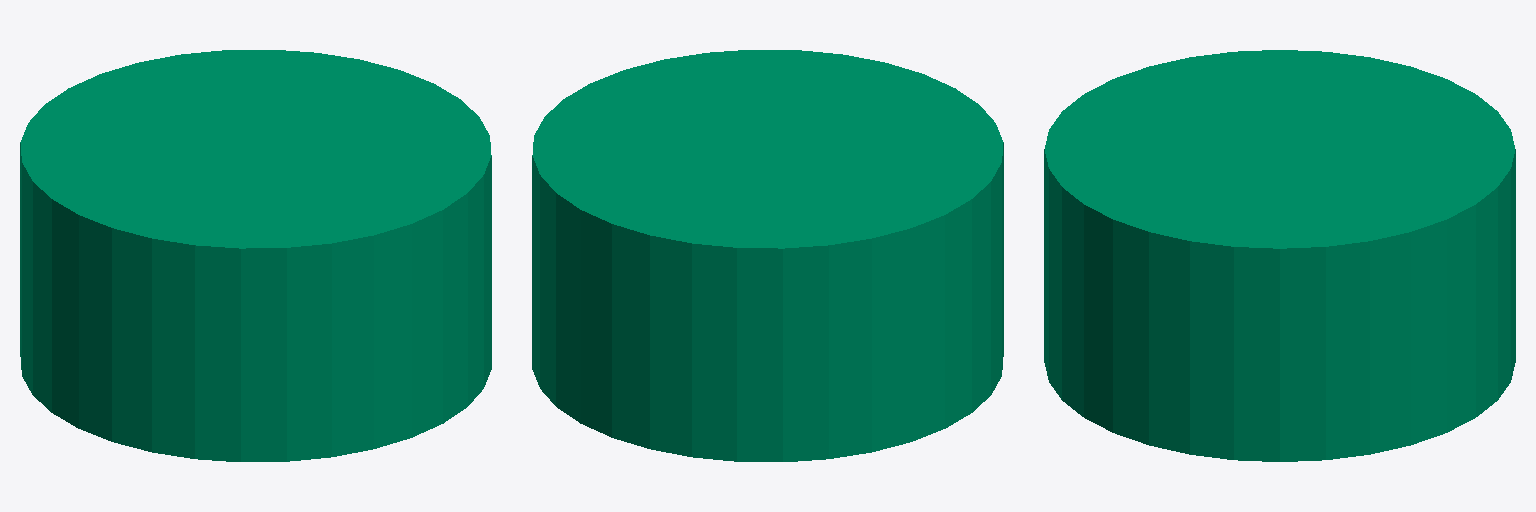
The robot description file, URDF, robot "open_base":
<robot name="open_base">

    <link name="world"/>
    <link name="origin_link"/>
    <joint
        name="world_joint"
        static="true"
        type="fixed"
    >

      <parent link="world"/>
      <child link="origin_link"/>

    </joint>
    <link name="stand_link">

        <inertial>

            <mass value="0.79997633141"/>
            <inertia
                ixx="2.1593E-4"
                ixy="0"
                ixz="0"
                iyy="2.1593E-4"
                iyz="0"
                izz="3.2373E-4"
            />

        </inertial>
        <visual>

            <geometry>

                <cylinder
                    radius="0.028500"
                    length="0.028500"
                />

            </geometry>

        </visual>
        <collision>

            <geometry>

                <cylinder
                    radius="0.028500"
                    length="0.028500"
                />

            </geometry>

        </collision>

    </link>
    <joint
        name="origin_joint"
        type="fixed"
    >

        <origin xyz="0 0 0.01425"/>
        <parent link="origin_link"/>
        <child link="stand_link"/>
        <axis xyz="0 0 1"/>

    </joint>
    <gazebo>

        <plugin name="gazebo_ros_control" filename="libgazebo_ros_control.so" >

            <robotNamespace>/stand</robotNamespace>
            <controlPeriod>0.001</controlPeriod>

        </plugin>

    </gazebo>

</robot>

--- Facts derived from the render (not from the file) ---
3 views of the same robot in one strip: view 1: azimuth 30°, elevation 25°; view 2: azimuth 150°, elevation 25°; view 3: azimuth 270°, elevation 25° (orthographic).
Robot: open_base — 3 links, 2 joints (2 fixed); root link world; default pose: all joints at 0.
Visible links, largest first — view 1: stand_link; view 2: stand_link; view 3: stand_link.
Boxes of the visible links, bbox=[...] form: stand_link: bbox=[20, 50, 491, 461]; stand_link: bbox=[532, 50, 1003, 461]; stand_link: bbox=[1044, 50, 1515, 461].
Bounding box of the posed robot: 0.057 × 0.057 × 0.0285 m (x, y, z).
Geometry: primitives only (box / cylinder / sphere), no mesh files.